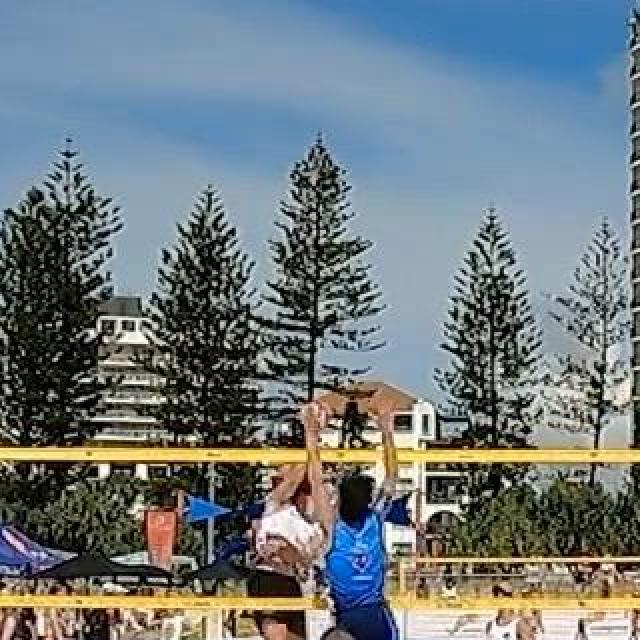volleyball: (300, 399, 332, 431)
